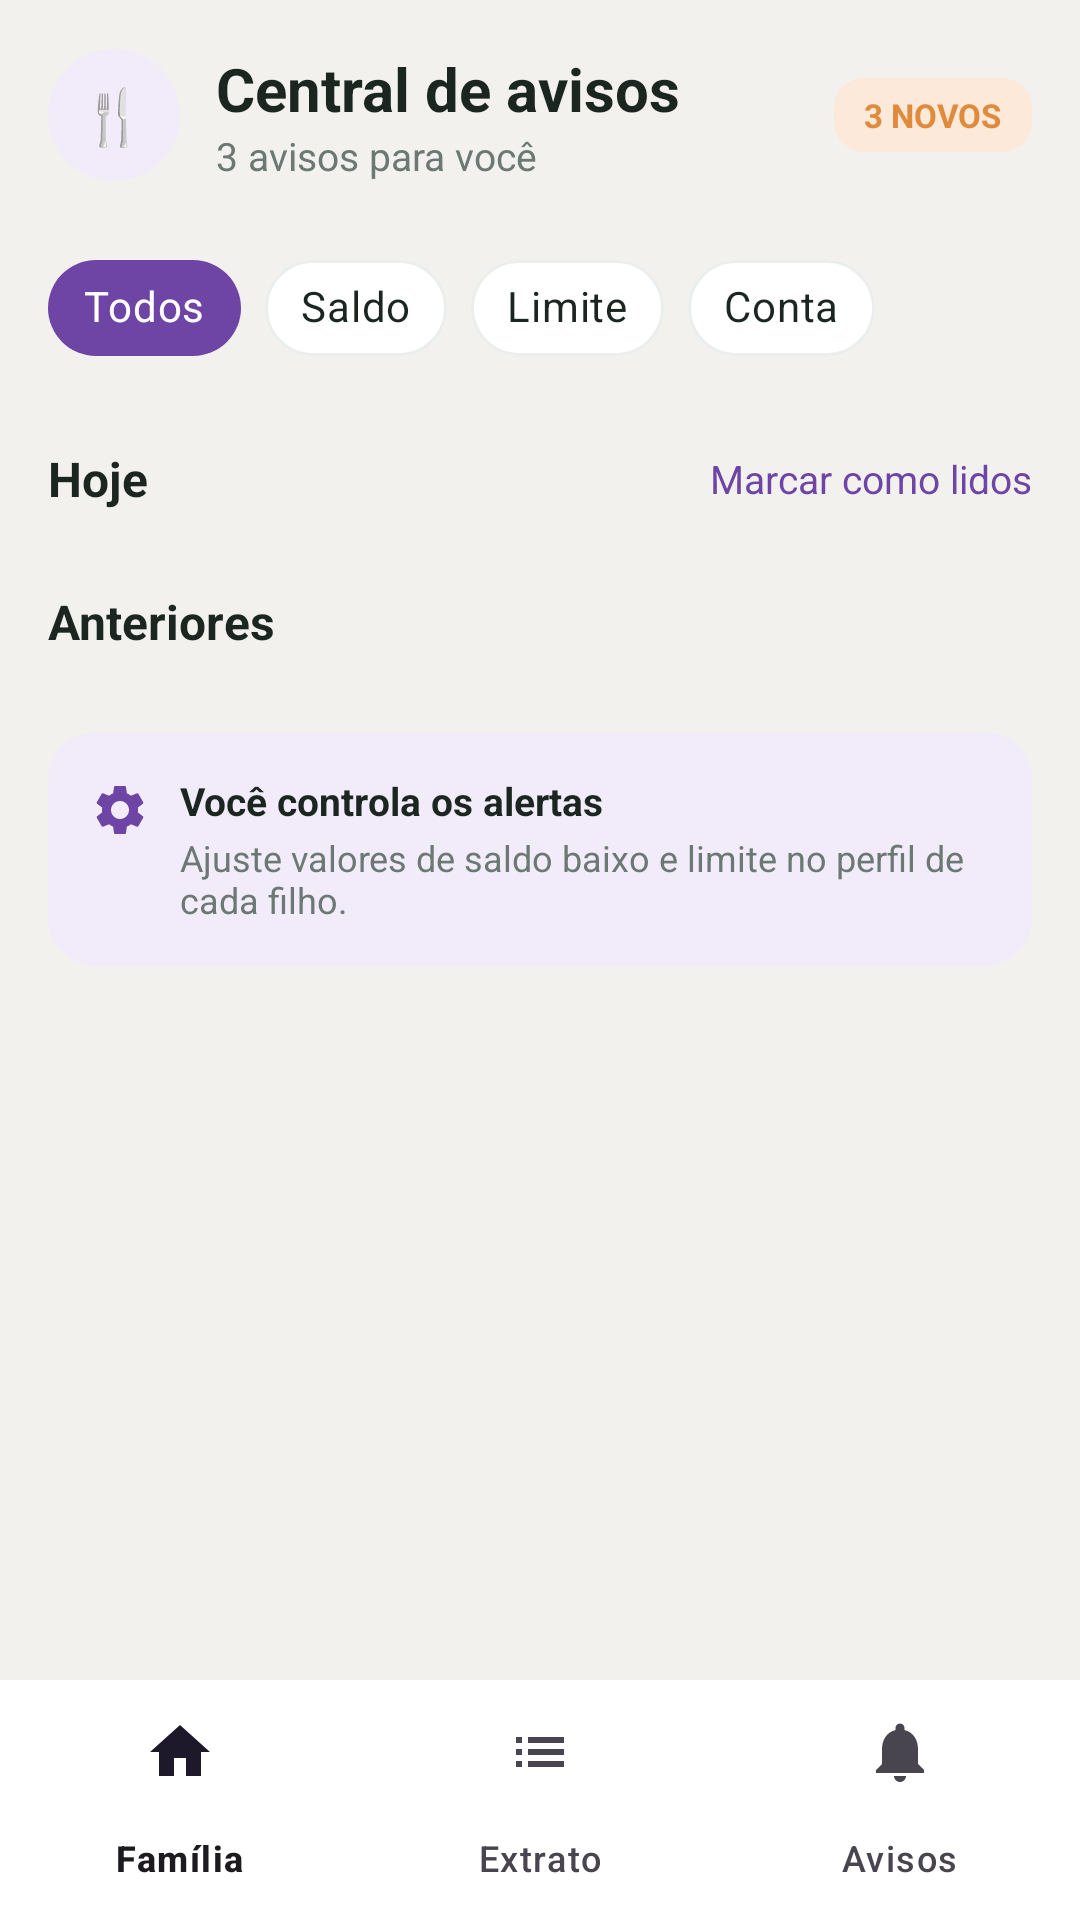

Icon click points for this 1080x1920 phone screenshot, format (x=x, y=y):
settings: (x=120, y=810)
